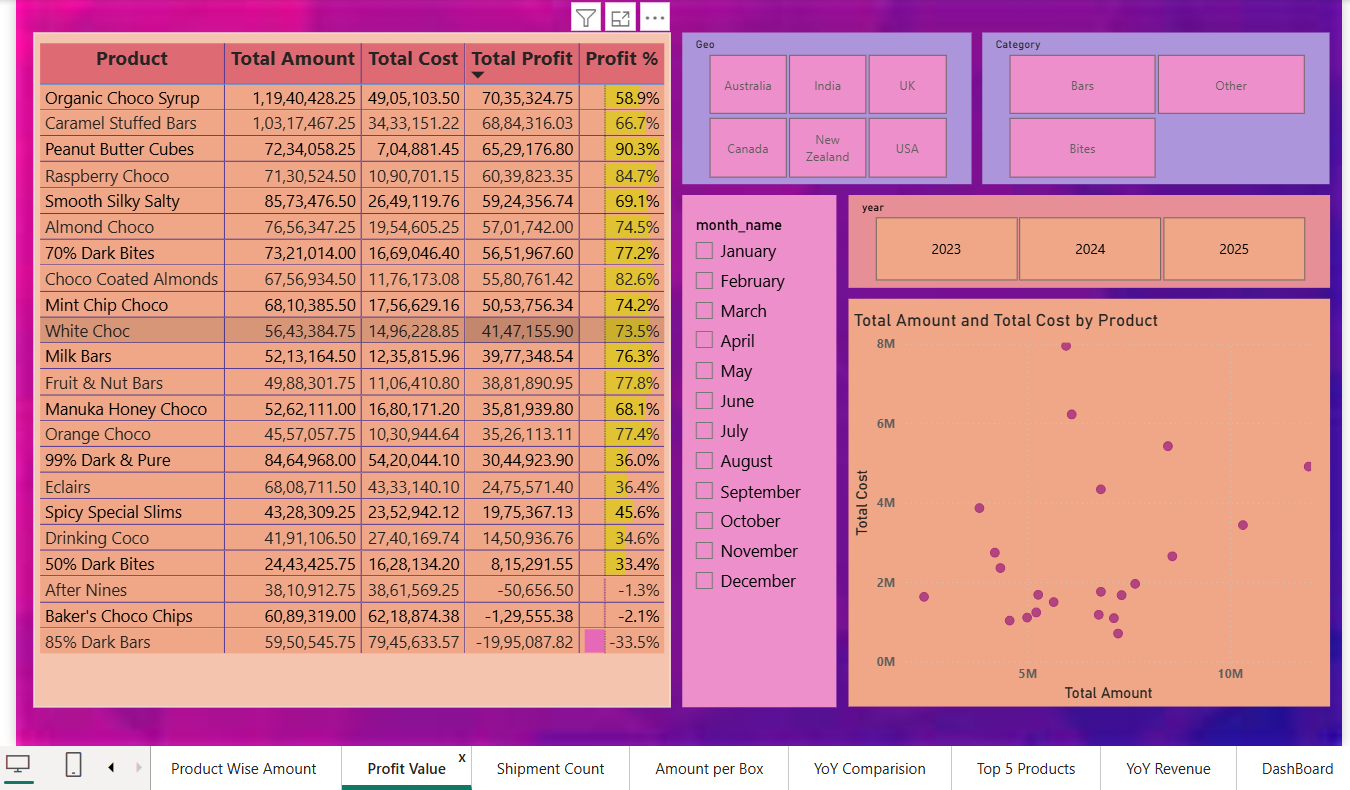

The page's visual inventory and layout, read from the dashboard file:
{"tool":"powerbi","page":{"name":"Profit Value","canvas":[1280,720],"ordinal":1},"visuals":[{"type":"tableEx","fields":{"Values":["products.Product","shipments.Total Amount","shipments.Total Cost","shipments.Total Profit","shipments.Profit %"]},"box":[16.9,31.4,615.3,651.5],"z":0},{"type":"slicer","fields":{"Values":["locations.Geo"]},"box":[643.2,31.8,278.8,146.7],"z":1000},{"type":"slicer","fields":{"Values":["products.Category"]},"box":[933,31.8,335.1,146.7],"z":2000},{"type":"slicer","fields":{"Values":["calendar.month_name"]},"box":[643.2,188.3,149.2,494],"z":3000},{"type":"slicer","fields":{"Values":["calendar.year"]},"box":[803.4,188.3,464.7,89.3],"z":4000},{"type":"scatterChart","fields":{"Category":["products.Product"],"X":["shipments.Total Amount"],"Y":["shipments.Total Cost"]},"box":[803.4,288.6,464.7,393.8],"z":5000}]}

Visuals, with their boxes in screenshot pixels (x1, y1, x2, y2):
tableEx - products.Product x shipments.Total Amount: (left=28, top=29, right=668, bottom=707)
slicer - locations.Geo: (left=680, top=30, right=970, bottom=182)
slicer - products.Category: (left=981, top=30, right=1330, bottom=182)
slicer - calendar.month_name: (left=680, top=192, right=835, bottom=706)
slicer - calendar.year: (left=846, top=192, right=1330, bottom=285)
scatterChart - products.Product x shipments.Total Amount: (left=846, top=297, right=1330, bottom=706)
